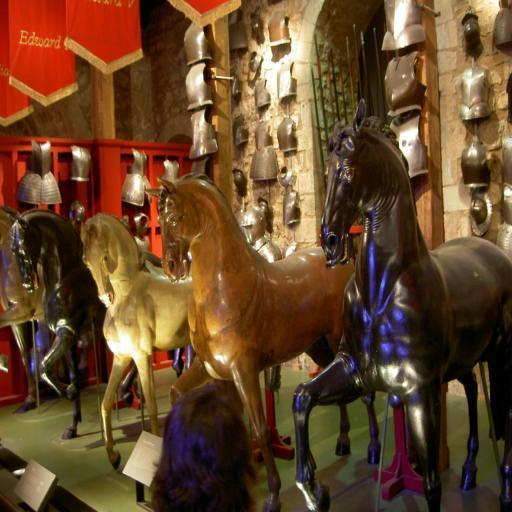horse: (0, 96, 512, 512)
